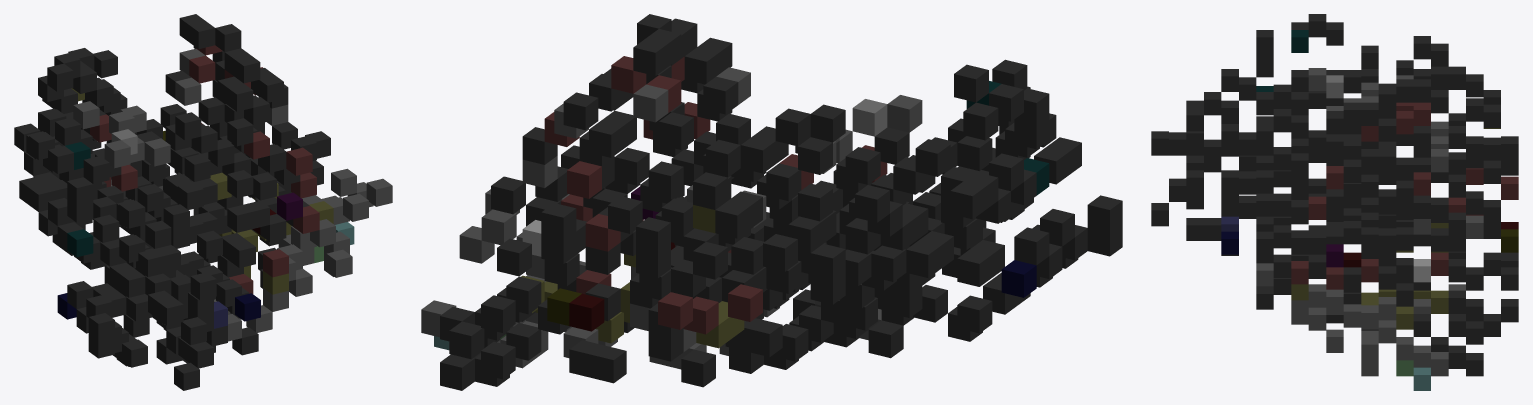
File: object_012_voxel.obj
3 views of the same model, side by side, from view 1: azimuth 30°, elevation 25°; view 2: azimuth 150°, elevation 25°; view 3: azimuth 270°, elevation 25° (orthographic). The views are drawn at different scales.
Size of the model in its own units: 0.23 by 0.15 by 0.21.
